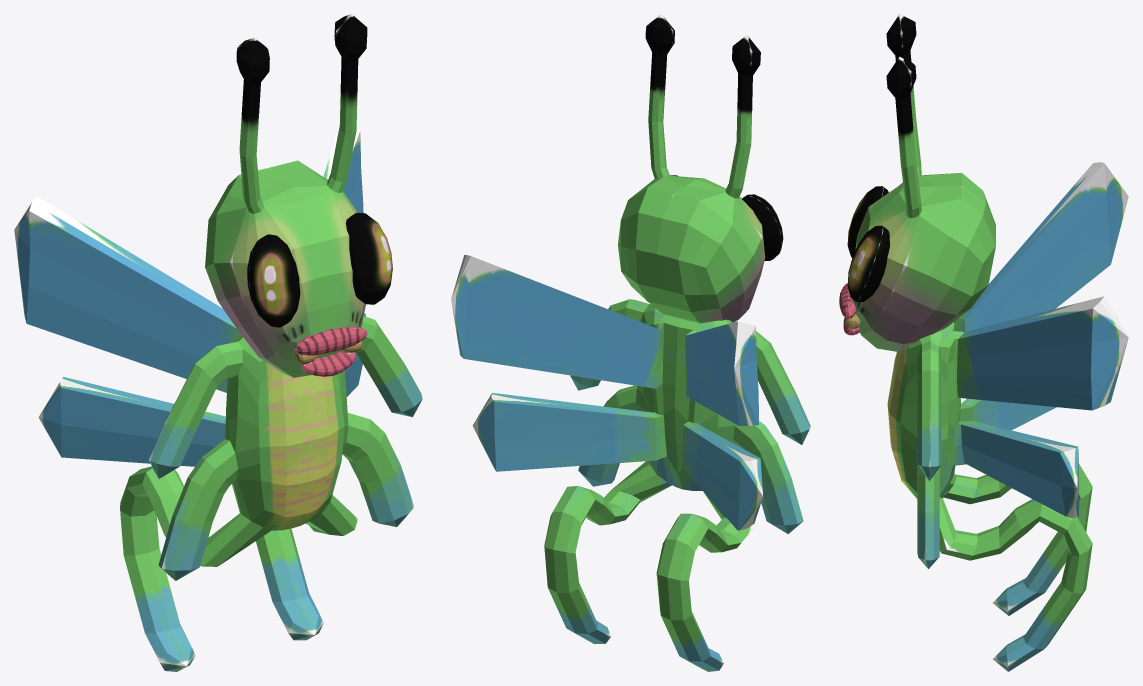
The model's file is chapulin.glb.
The picture shows the model from 3 angles, left to right: view 1: azimuth 30°, elevation 25°; view 2: azimuth 150°, elevation 25°; view 3: azimuth 270°, elevation 25°; orthographic projection. The views are drawn at different scales.
Visible parts, largest first — view 1: Roundcube.005, Roundcube, Roundcube.001, Roundcube.002, Roundcube.003; view 2: Roundcube.005, Roundcube, Roundcube.001; view 3: Roundcube.005, Roundcube, Roundcube.001.
Part boxes in pixels (x1,y1,x2,y2): Roundcube.005: [14, 123, 422, 671]; Roundcube: [205, 14, 367, 377]; Roundcube.001: [247, 212, 392, 327]; Roundcube.002: [294, 326, 367, 355]; Roundcube.003: [301, 351, 356, 376]; Roundcube.005: [451, 255, 810, 671]; Roundcube: [618, 14, 764, 323]; Roundcube.001: [670, 175, 783, 260]; Roundcube.005: [887, 162, 1128, 671]; Roundcube: [852, 14, 995, 351]; Roundcube.001: [847, 186, 889, 302].
Bounding box in the file's own units: 5.62 × 10.73 × 4.64.
Materials: 1 (1 with a texture image).
